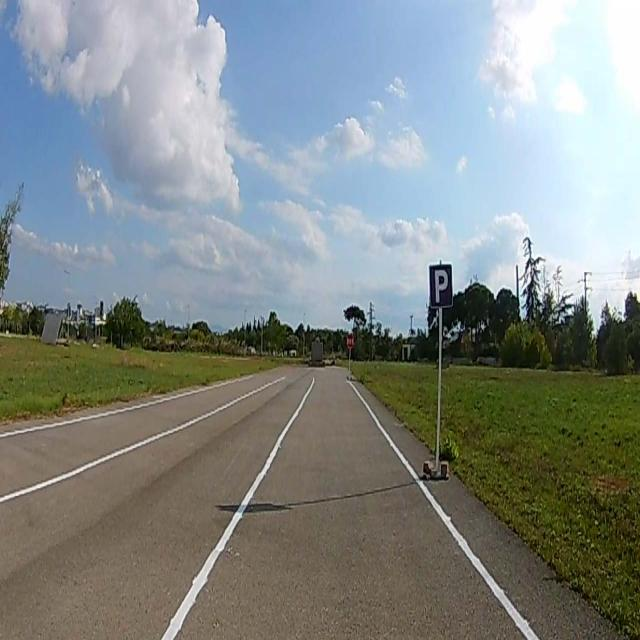park: (428, 265, 452, 307)
